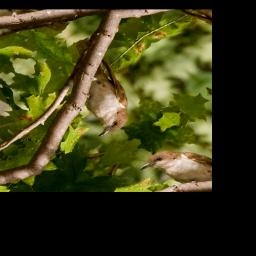Cuckoo: (23, 35, 167, 142)
